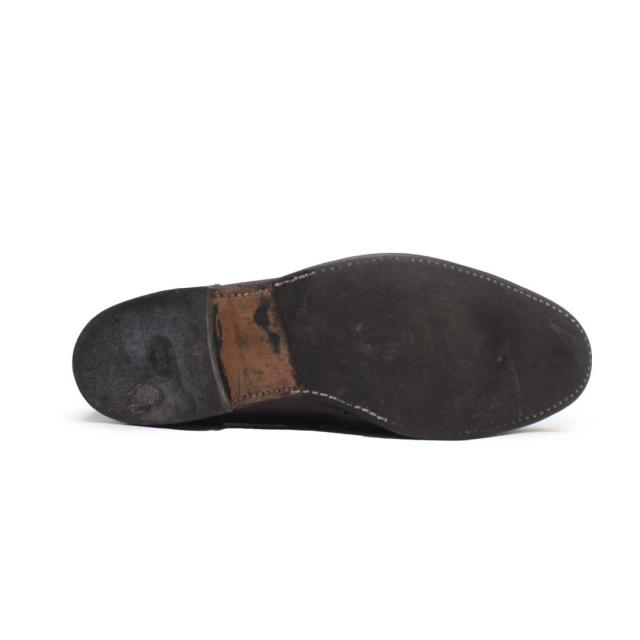outersole: (71, 253, 593, 442)
